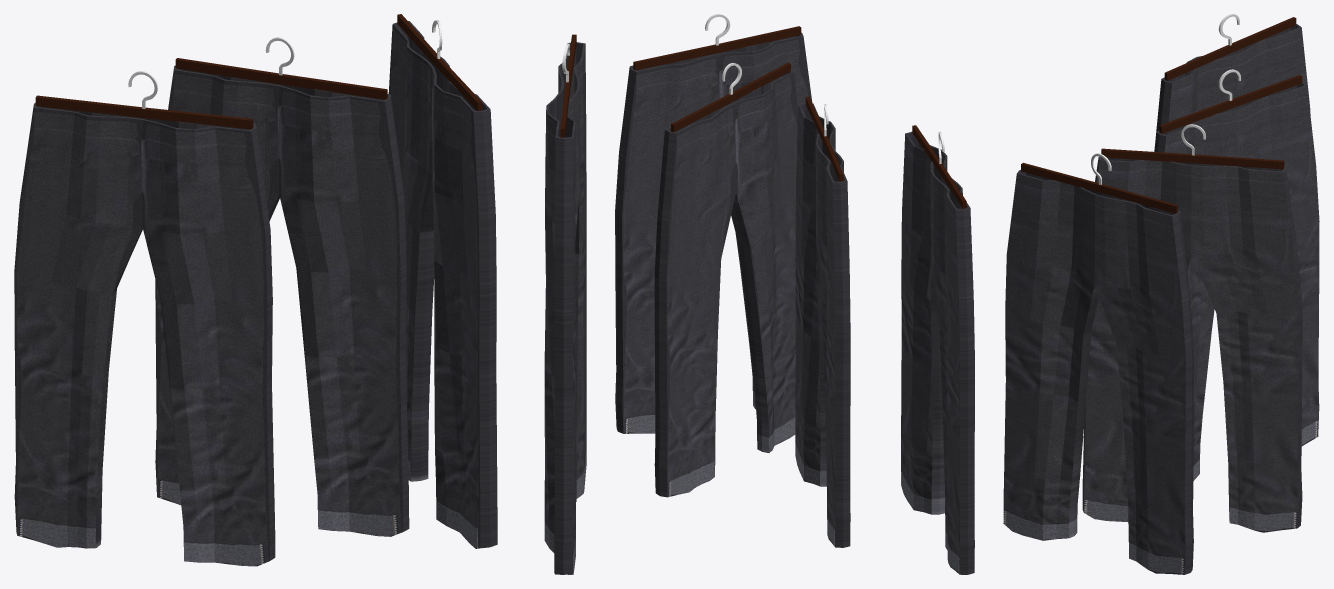
The model's file is crow1.glb.
3 views of the same model, side by side, from view 1: azimuth 30°, elevation 25°; view 2: azimuth 150°, elevation 25°; view 3: azimuth 270°, elevation 25° (orthographic). The views are drawn at different scales.
Parts seen in each view (by area): view 1: Plane.061; view 2: Plane.061; view 3: Plane.061.
Boxes of the visible parts, bbox=[...] form: Plane.061: bbox=[14, 14, 586, 574]; Plane.061: bbox=[615, 14, 974, 574]; Plane.061: bbox=[1003, 14, 1319, 574].
Bounding box in the file's own units: 0.5113 × 0.4706 × 0.3377.
3 materials, 3 textured.
